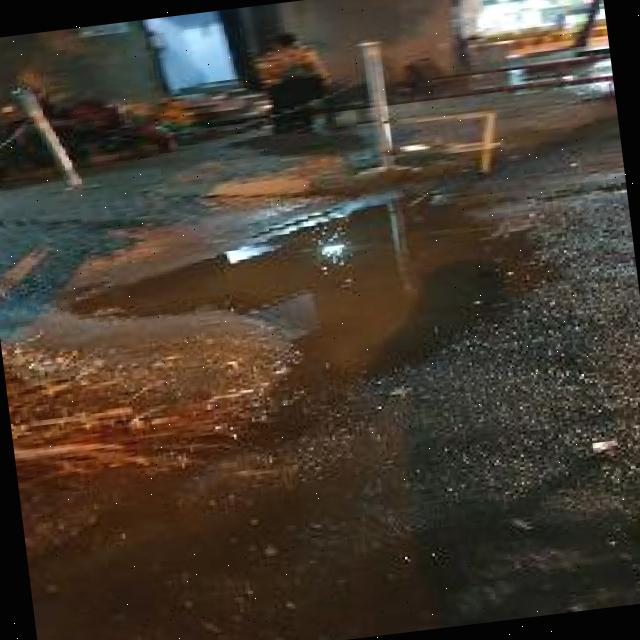stagnation: (260, 185, 453, 408)
